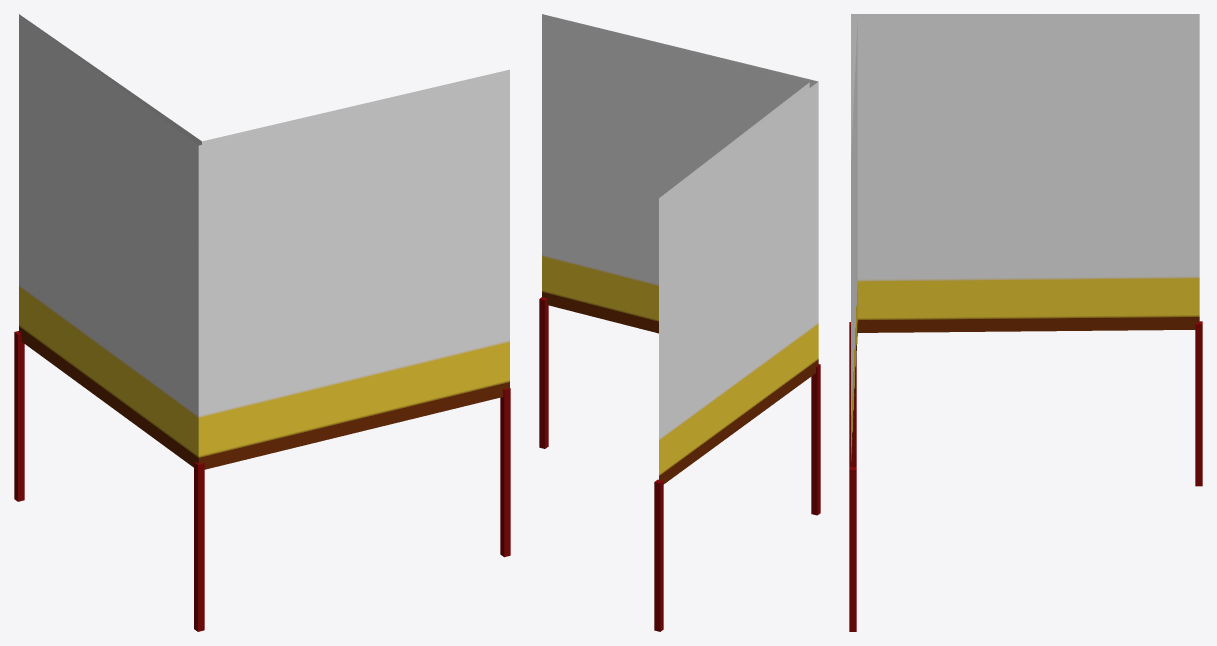
Rendered from Marker_dimension.FBX.
3 renders of one model, left to right at view 1: azimuth 30°, elevation 25°; view 2: azimuth 150°, elevation 25°; view 3: azimuth 270°, elevation 25°, orthographic. The views are drawn at different scales.
Visible parts, largest first — view 1: Marker_dimension; view 2: Marker_dimension; view 3: Marker_dimension.
Boxes of the visible parts, x1=… form: Marker_dimension: x1=14, y1=14, x2=510, y2=631; Marker_dimension: x1=539, y1=14, x2=820, y2=631; Marker_dimension: x1=849, y1=14, x2=1202, y2=631.
Bounding box in the file's own units: 3.36 × 4.95 × 3.37.
